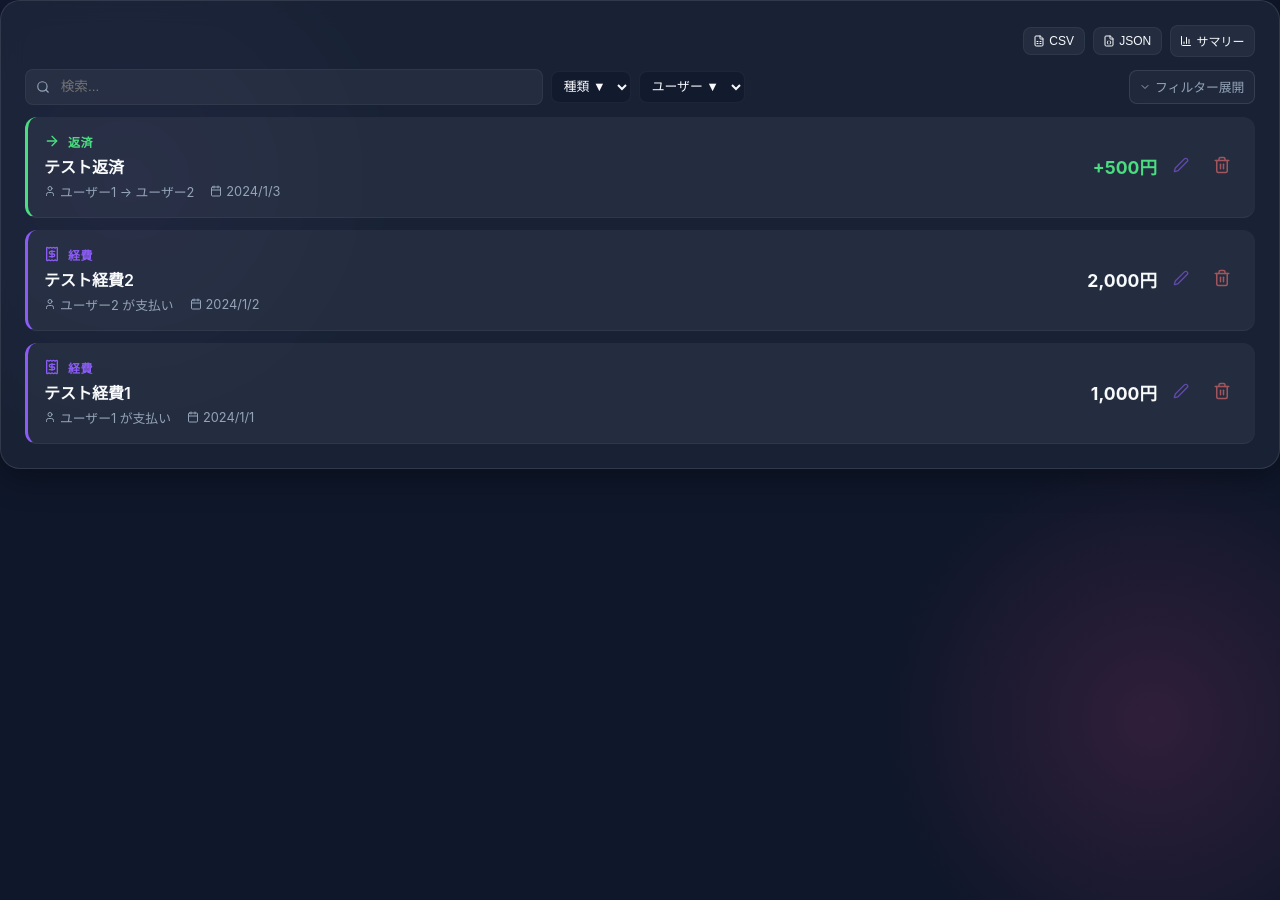
Scenario: TransactionList Component › 削除ボタンをクリックすると確認モーダルが表示される
Click the button named "削除" in the row of "500" at (1222, 167), box left=1205, top=148, right=1239, bottom=185
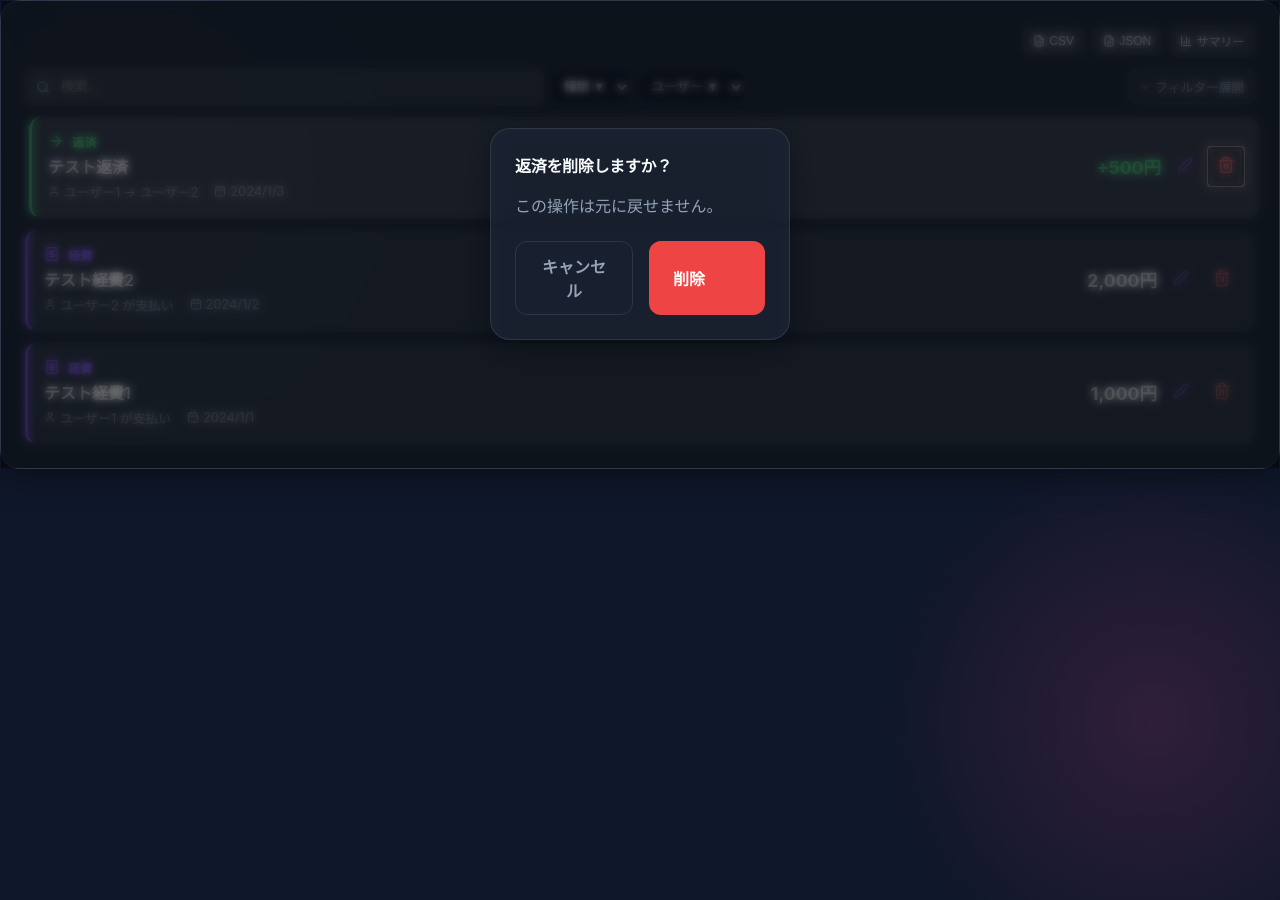
Expected: the heading "を削除しますか？" is shown, left=546, top=156, right=672, bottom=176
Expected: the text "この操作は元に戻せません。" is shown, left=515, top=196, right=722, bottom=216
